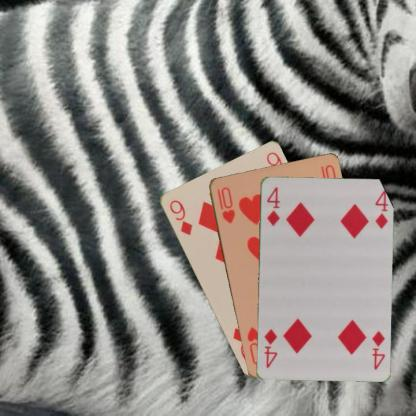10h: (214, 184, 236, 224)
4d: (263, 184, 282, 226), (369, 328, 386, 370)
9d: (166, 197, 194, 237)
